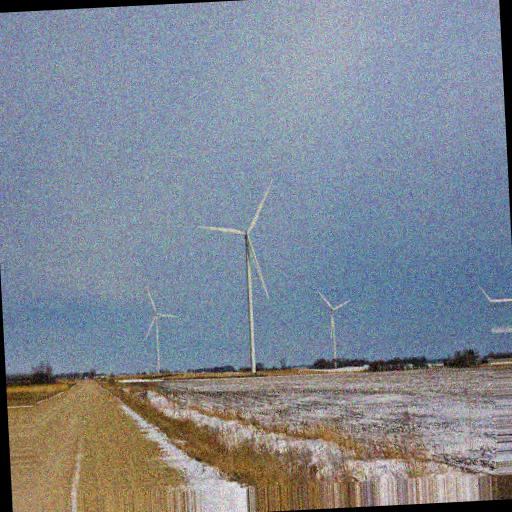wind turbine: (194, 179, 273, 374), (144, 287, 182, 372), (315, 290, 352, 365)
